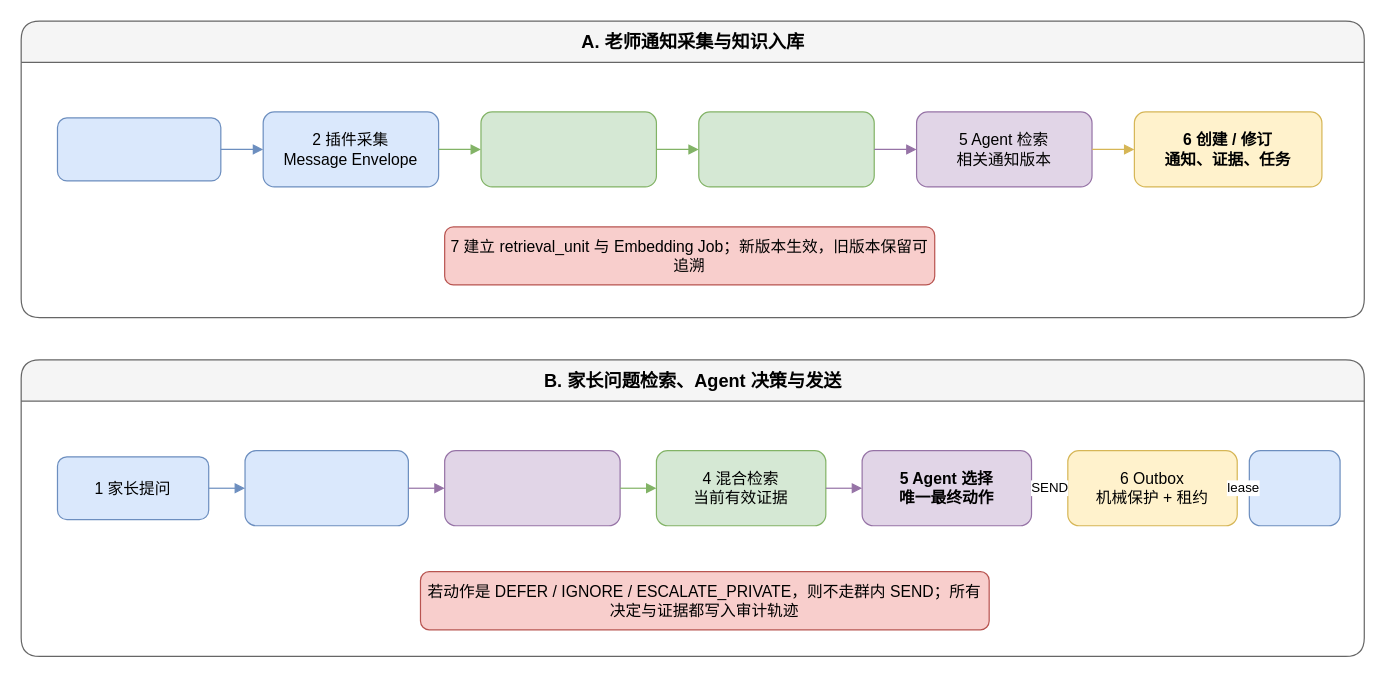
This 1385x678 diagram has some shape labels left out. Here are the shapes that lost their labels. From the top down, the centre of each, then its label:
At pixel 138 149: "1 老师消息 / 图片".
At pixel 568 149: "3 API 幂等写入 原始消息 + Job".
At pixel 786 149: "4 Worker 解析 图片 / 文件 / 文本".
At pixel 326 488: "2 插件采集 API 触发事件".
At pixel 531 488: "3 Agent 分类 公共 / 聊天 / 个案".
At pixel 1294 488: "7 插件发送 回报发送回执".
